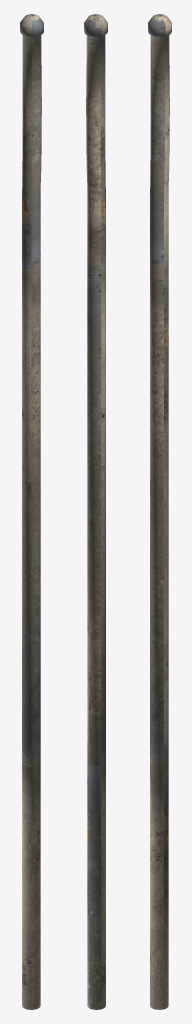
Rendered from Chain_Pole_Straight.fbx.
3 views of the same model, side by side, from view 1: azimuth 30°, elevation 25°; view 2: azimuth 150°, elevation 25°; view 3: azimuth 330°, elevation 25° (orthographic).
Visible parts, largest first — view 1: Chain_Pole_Straight; view 2: Chain_Pole_Straight; view 3: Chain_Pole_Straight.
Part boxes in pixels (x1,y1,x2,y2): Chain_Pole_Straight: (20, 14, 43, 1009); Chain_Pole_Straight: (84, 14, 107, 1009); Chain_Pole_Straight: (148, 14, 171, 1009).
Bounding box in the file's own units: 18.17 × 818 × 18.09.
